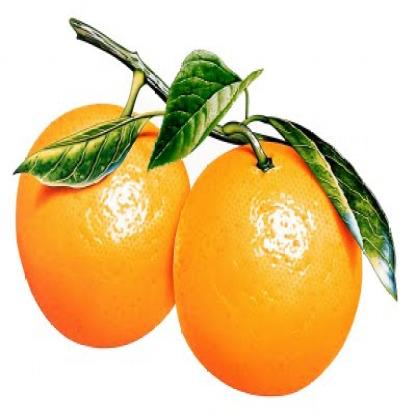orange: (159, 138, 365, 409), (18, 105, 194, 351)
